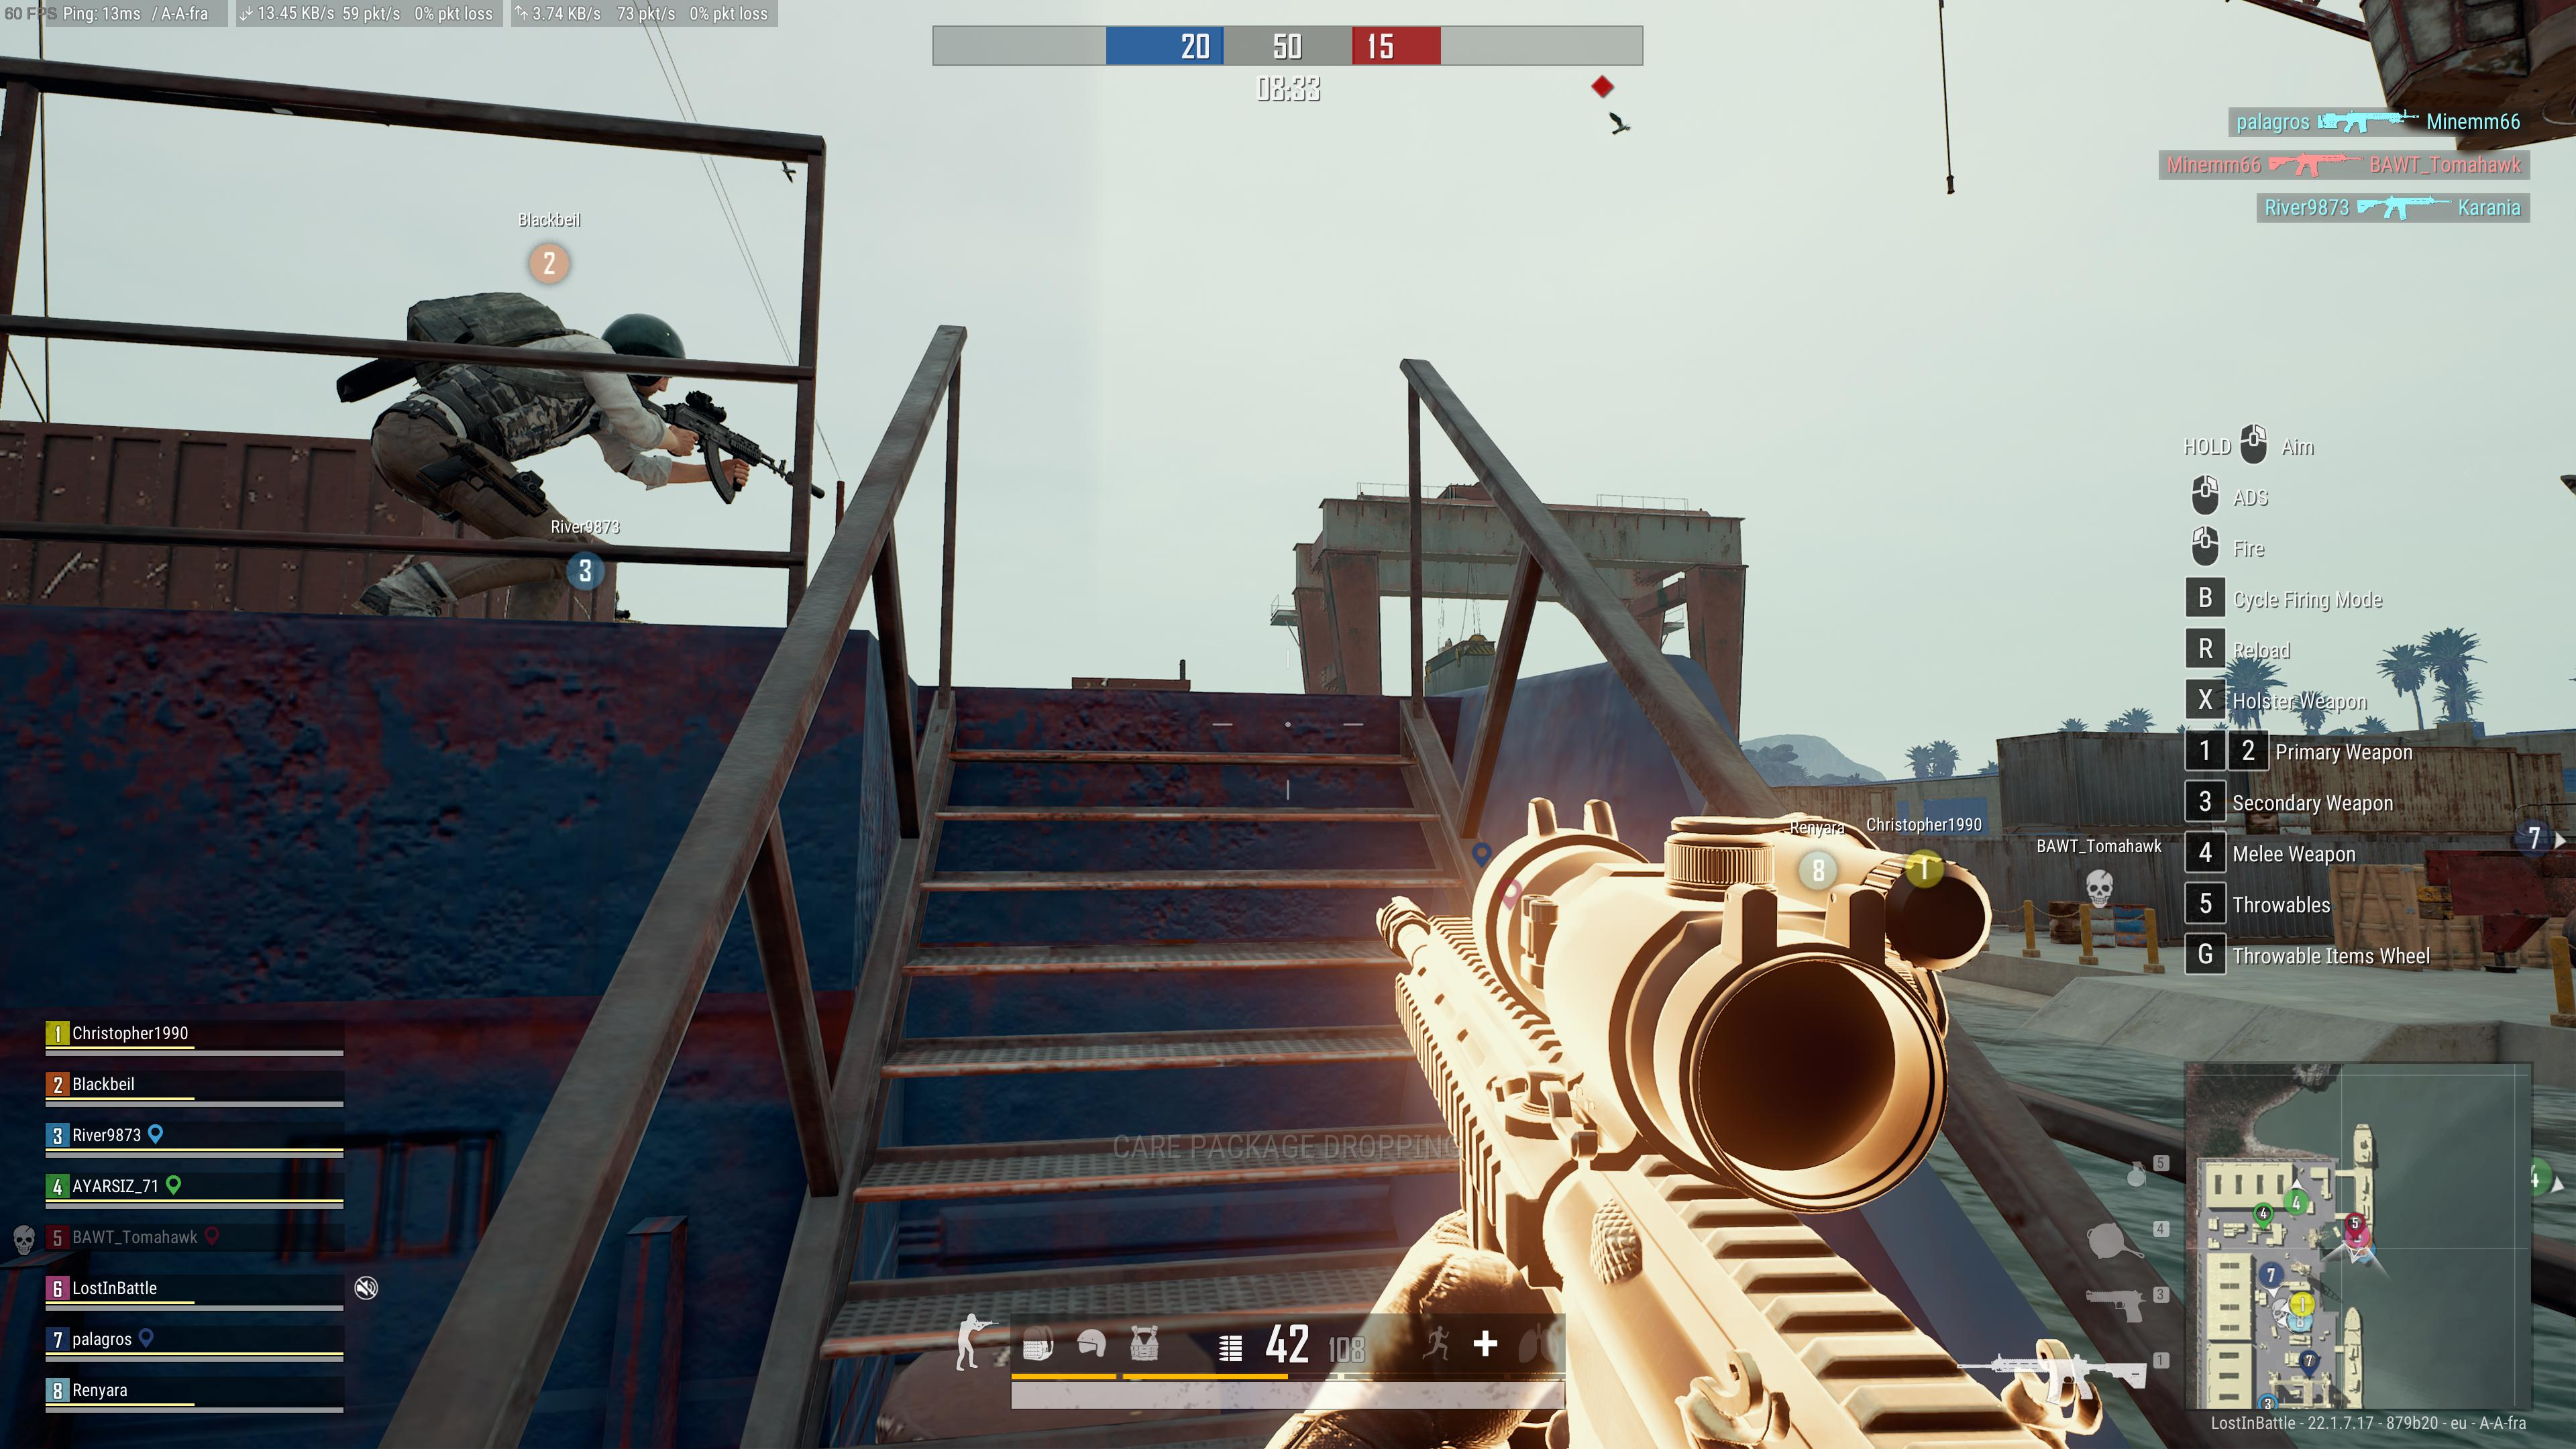friendly: (336, 251, 755, 621)
